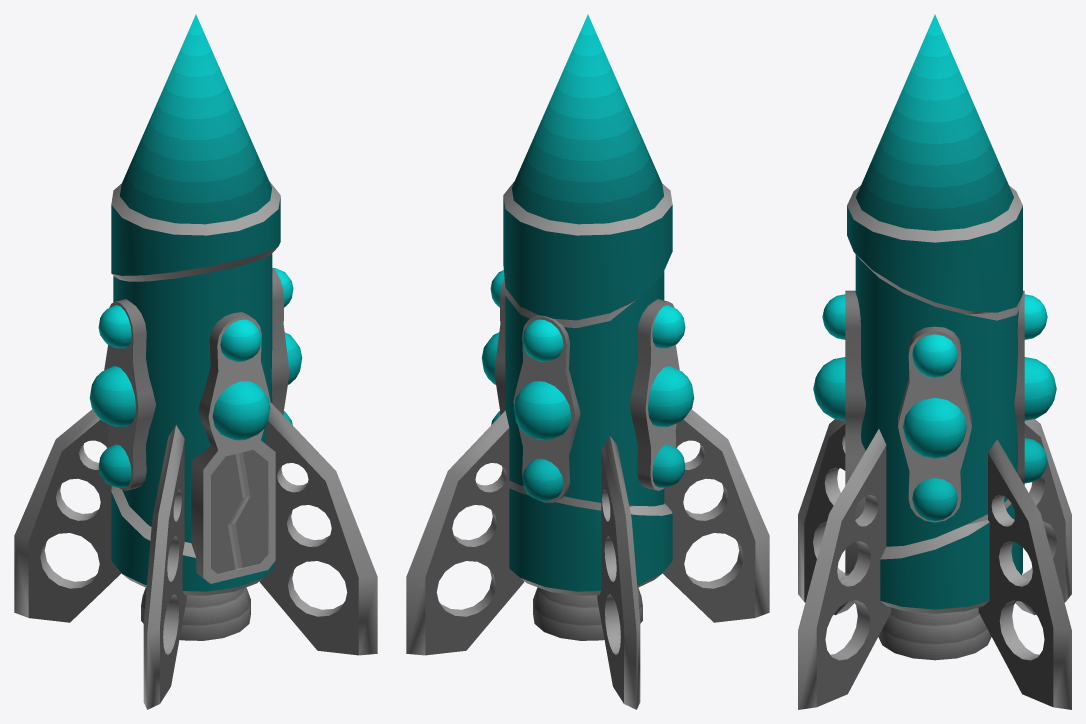
The model's file is Bubble Ship.fbx.
The picture shows the model from 3 angles, left to right: view 1: azimuth 30°, elevation 25°; view 2: azimuth 150°, elevation 25°; view 3: azimuth 270°, elevation 25°; orthographic projection. The views are drawn at different scales.
Parts seen in each view (by area): view 1: Plane; view 2: Plane; view 3: Plane.
Part boxes in pixels (x1=…): Plane: x1=14, y1=14, x2=377, y2=709; Plane: x1=406, y1=14, x2=769, y2=709; Plane: x1=798, y1=14, x2=1071, y2=709.
Bounding box in the file's own units: 311 × 800 × 311.
